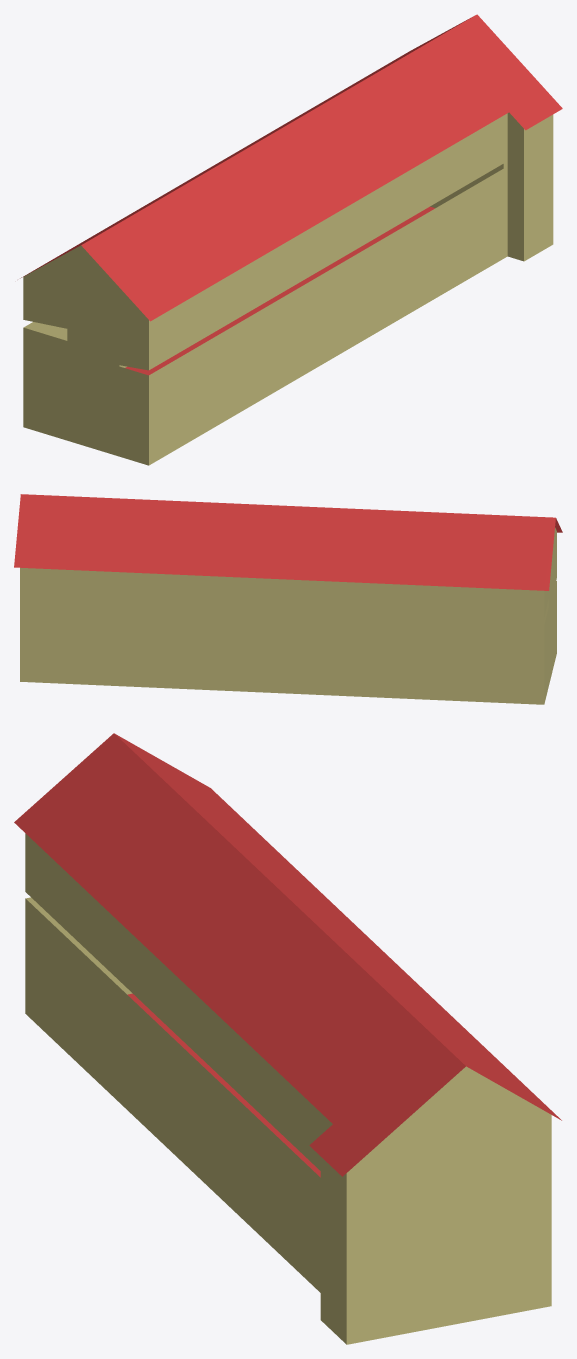
3 renders of one model, top to bottom at view 1: azimuth 30°, elevation 25°; view 2: azimuth 150°, elevation 25°; view 3: azimuth 270°, elevation 25°, orthographic. The views are drawn at different scales.
Bounding box in the file's own units: 50.99 × 31.56 × 16.49.
